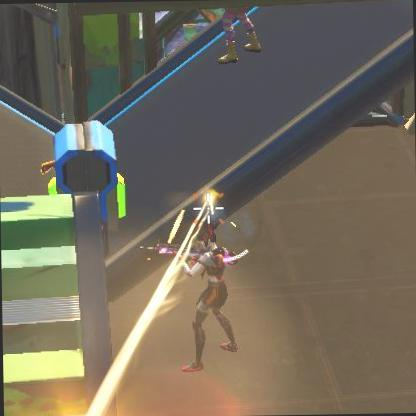person: (183, 246, 237, 363)
